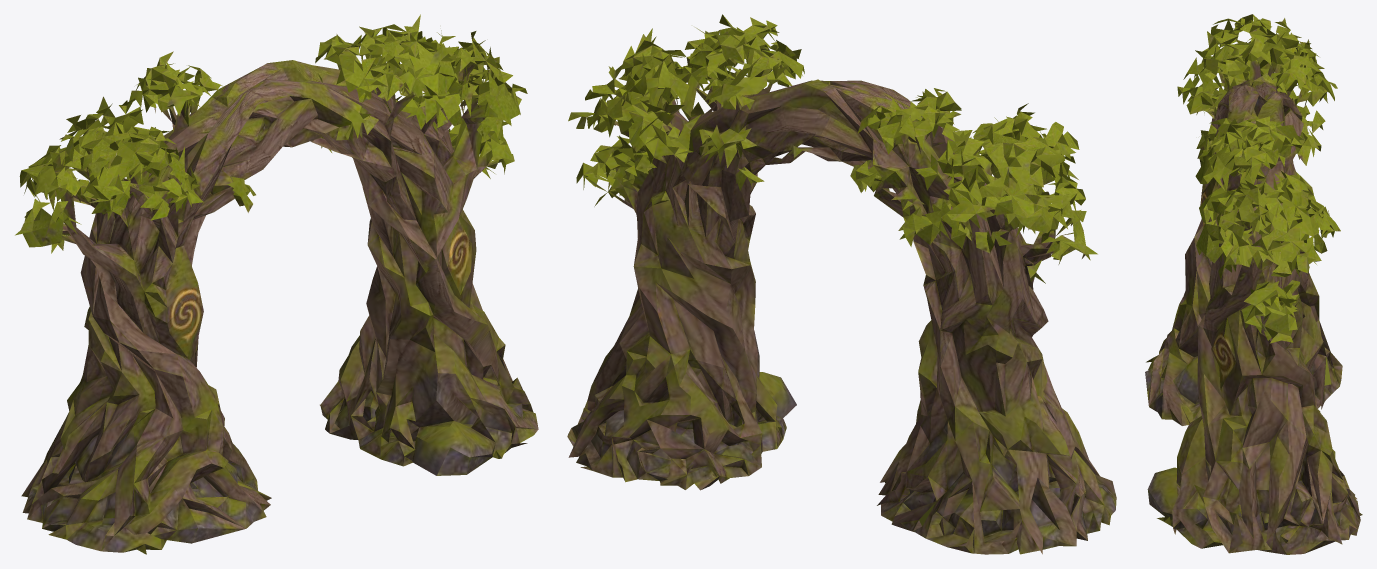
Rendered from portals3.glb.
3 renders of one model, left to right at view 1: azimuth 30°, elevation 25°; view 2: azimuth 150°, elevation 25°; view 3: azimuth 270°, elevation 25°, orthographic. The views are drawn at different scales.
Visible parts, largest first — view 1: portal_verdant; view 2: portal_verdant; view 3: portal_verdant.
Boxes of the visible parts, box(x1,y1,x2,y2) form: portal_verdant: box(15, 14, 538, 554); portal_verdant: box(567, 14, 1116, 554); portal_verdant: box(1145, 14, 1362, 554).
Size of the model in its own units: 1.27 by 1 by 0.5271.
1 material, 1 textured.
